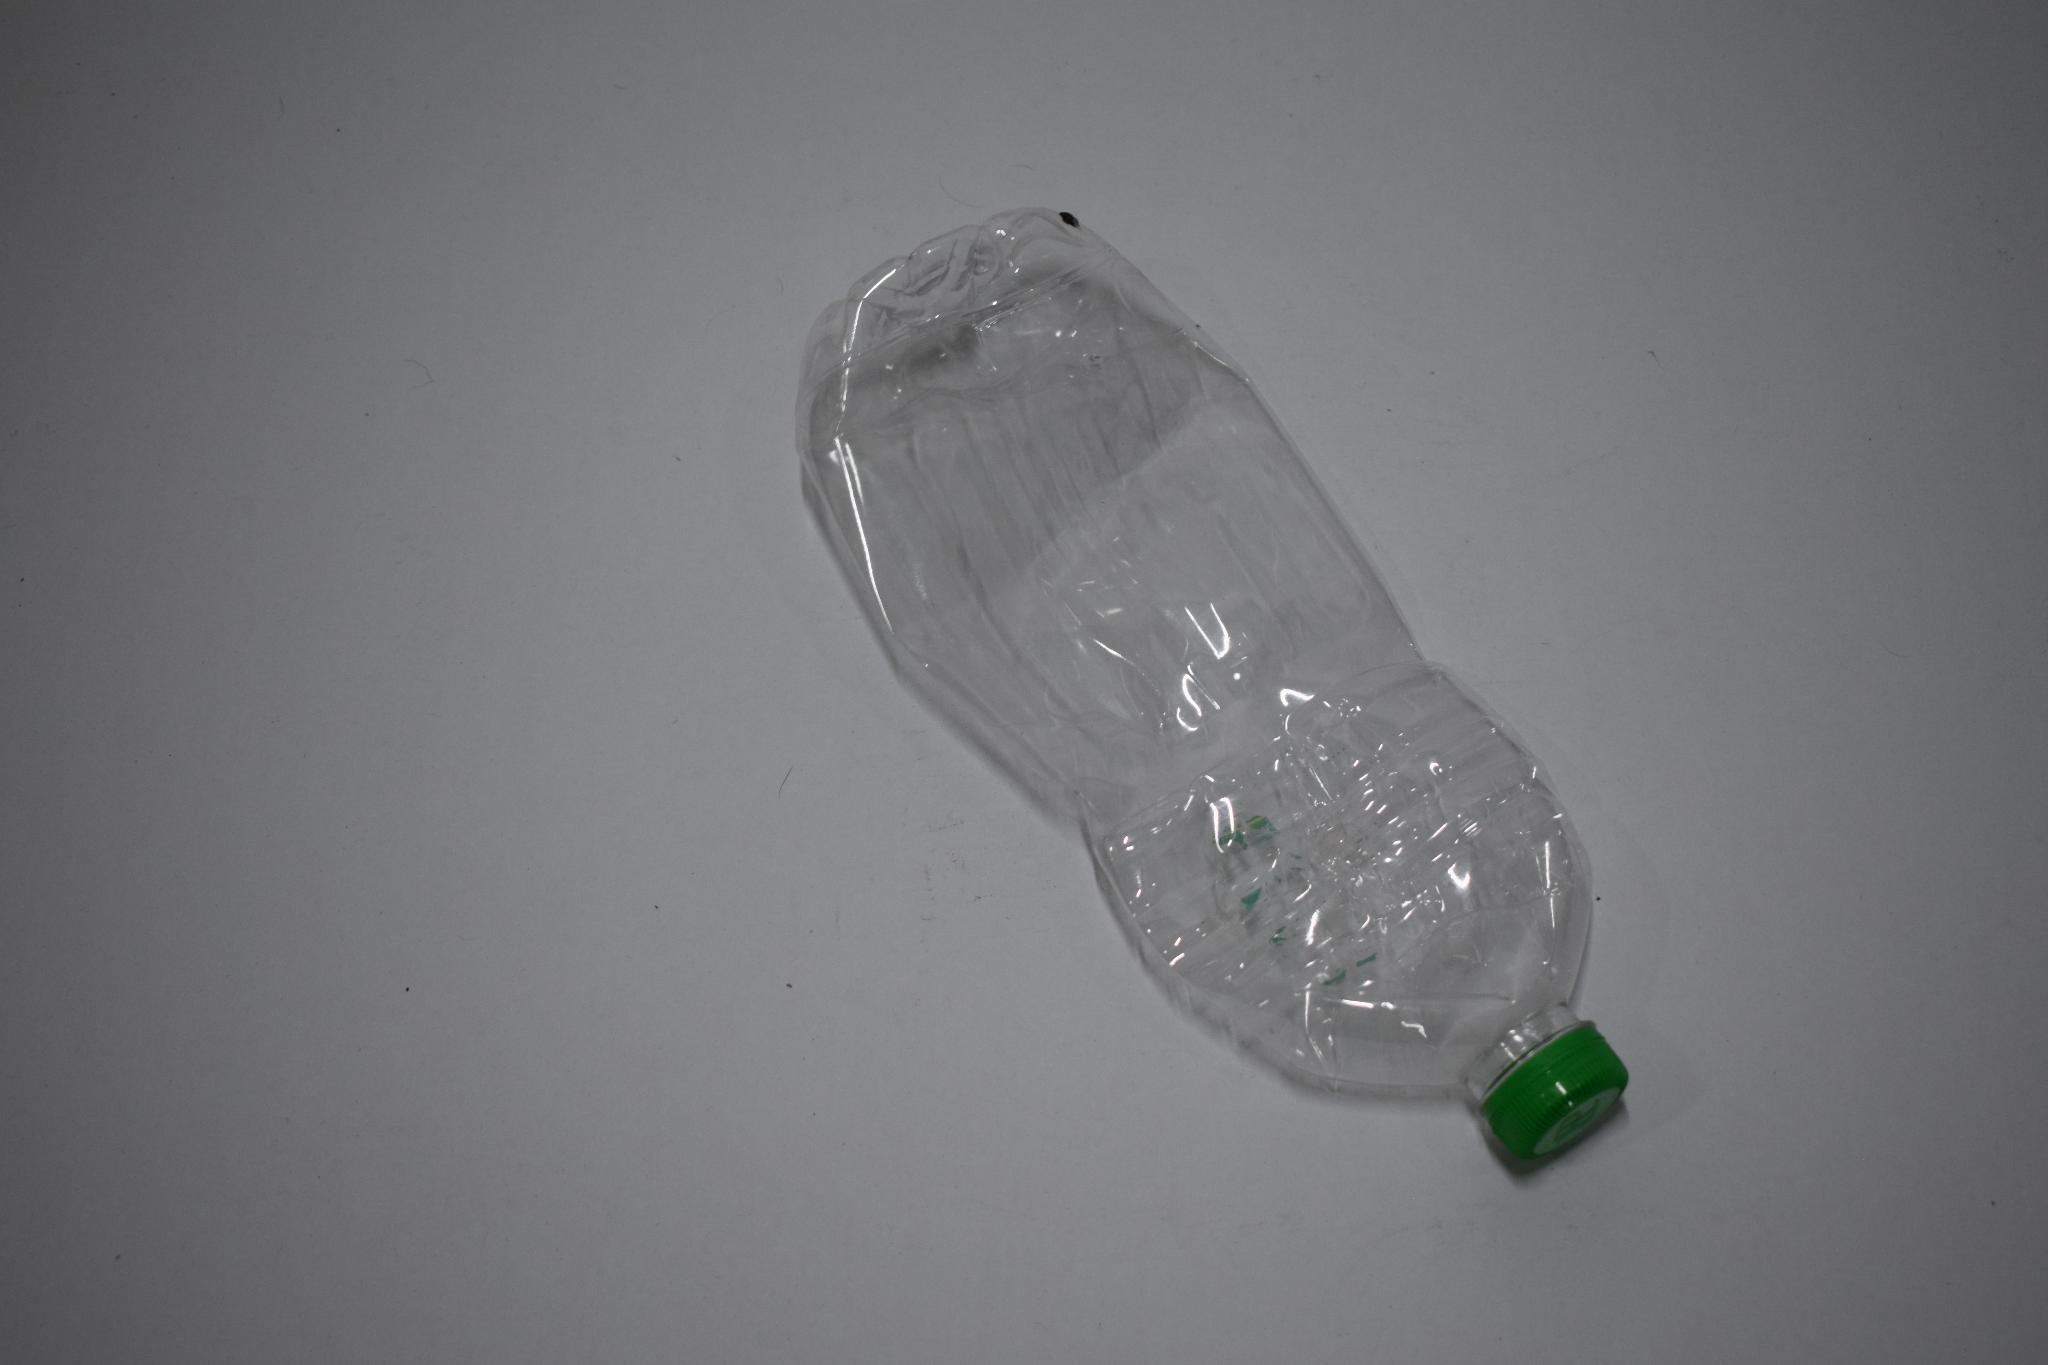bottle: (801, 221, 1660, 1213)
